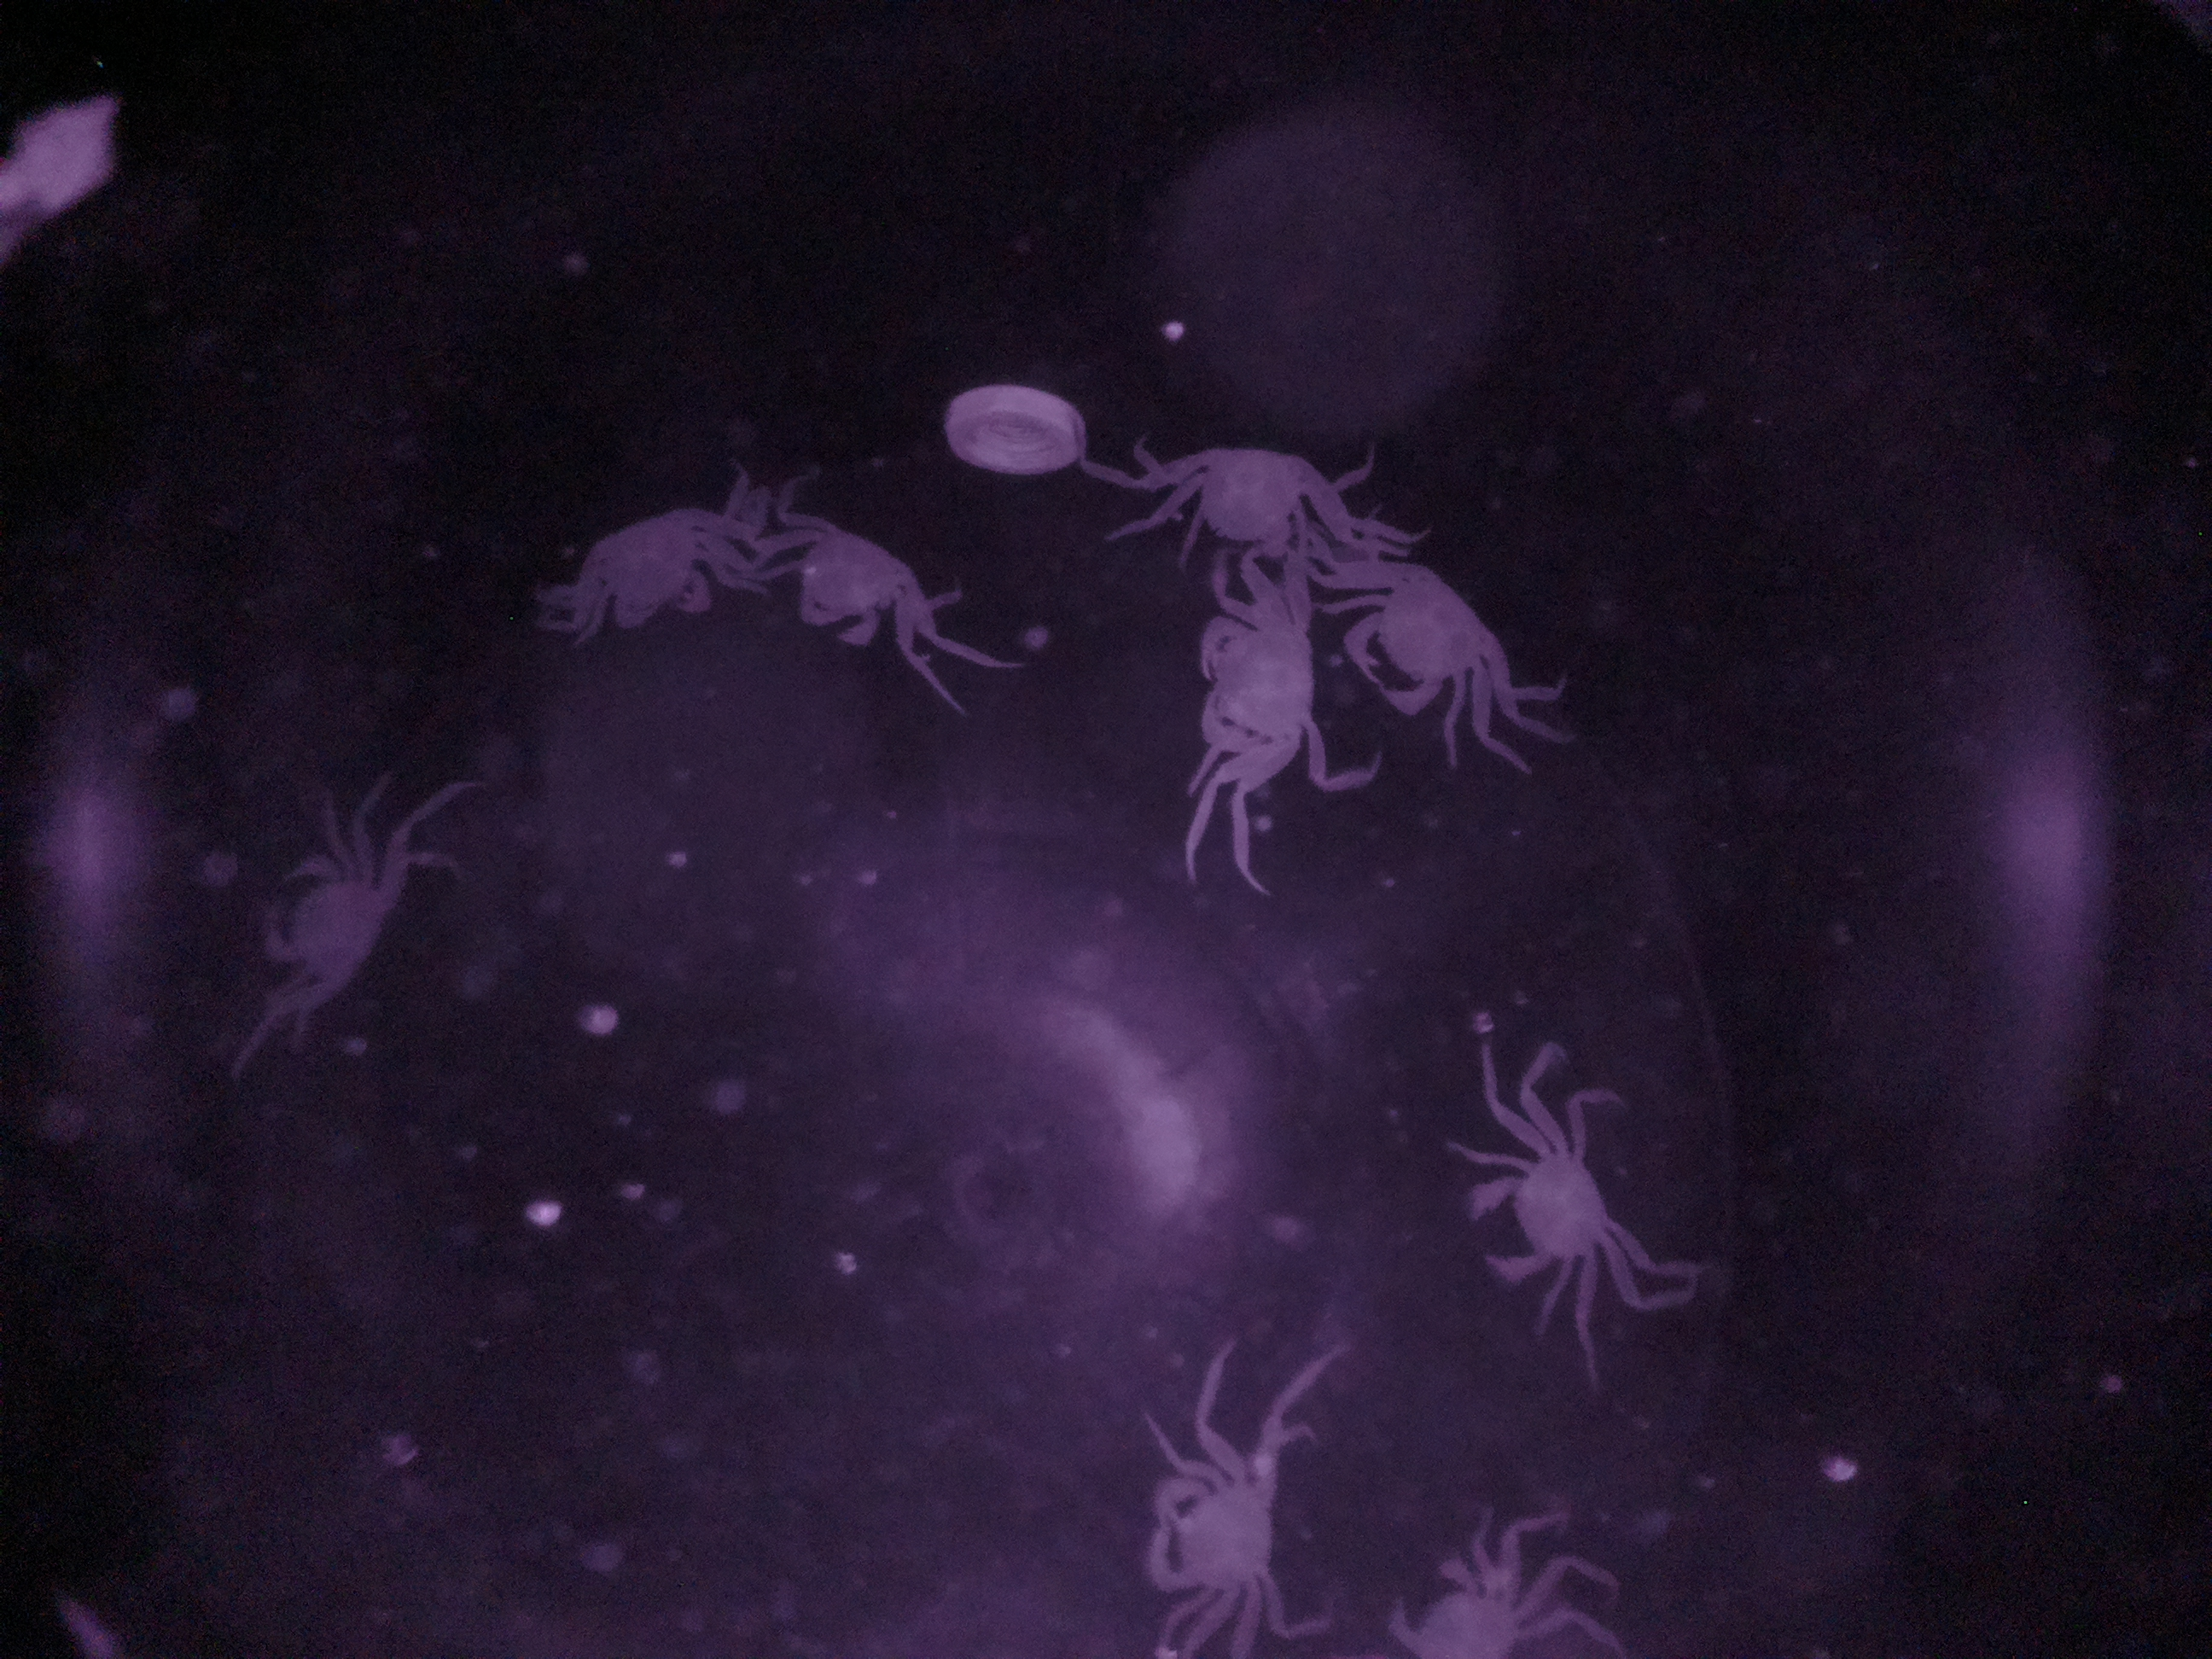Crab: (1122, 1405, 1322, 1642), (1446, 1105, 1648, 1310), (1325, 540, 1526, 744), (1183, 577, 1322, 817), (554, 498, 756, 655)
